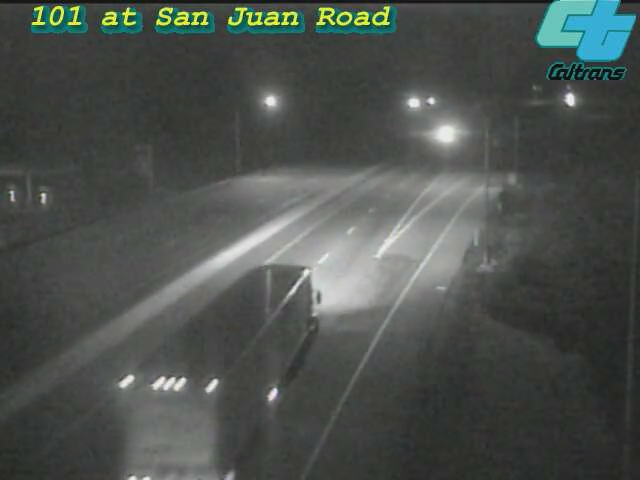vehicle: (190, 299, 300, 409), (421, 109, 471, 159)
